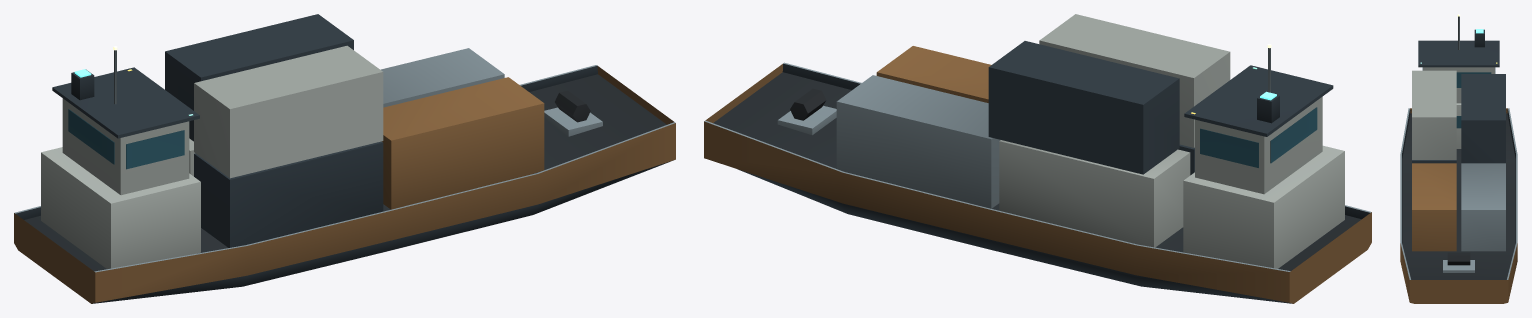
The model's file is harbour-barge.lod2.glb.
3 views of the same model, side by side, from view 1: azimuth 30°, elevation 25°; view 2: azimuth 150°, elevation 25°; view 3: azimuth 270°, elevation 25° (orthographic). The views are drawn at different scales.
Parts seen in each view (by area): view 1: structure; view 2: structure; view 3: structure.
Part boxes in pixels (x1,y1,x2,y2): structure: (14,14,675,303); structure: (704,14,1371,303); structure: (1400,14,1517,303).
Bounding box in the file's own units: 22 × 8.29 × 6.2.
